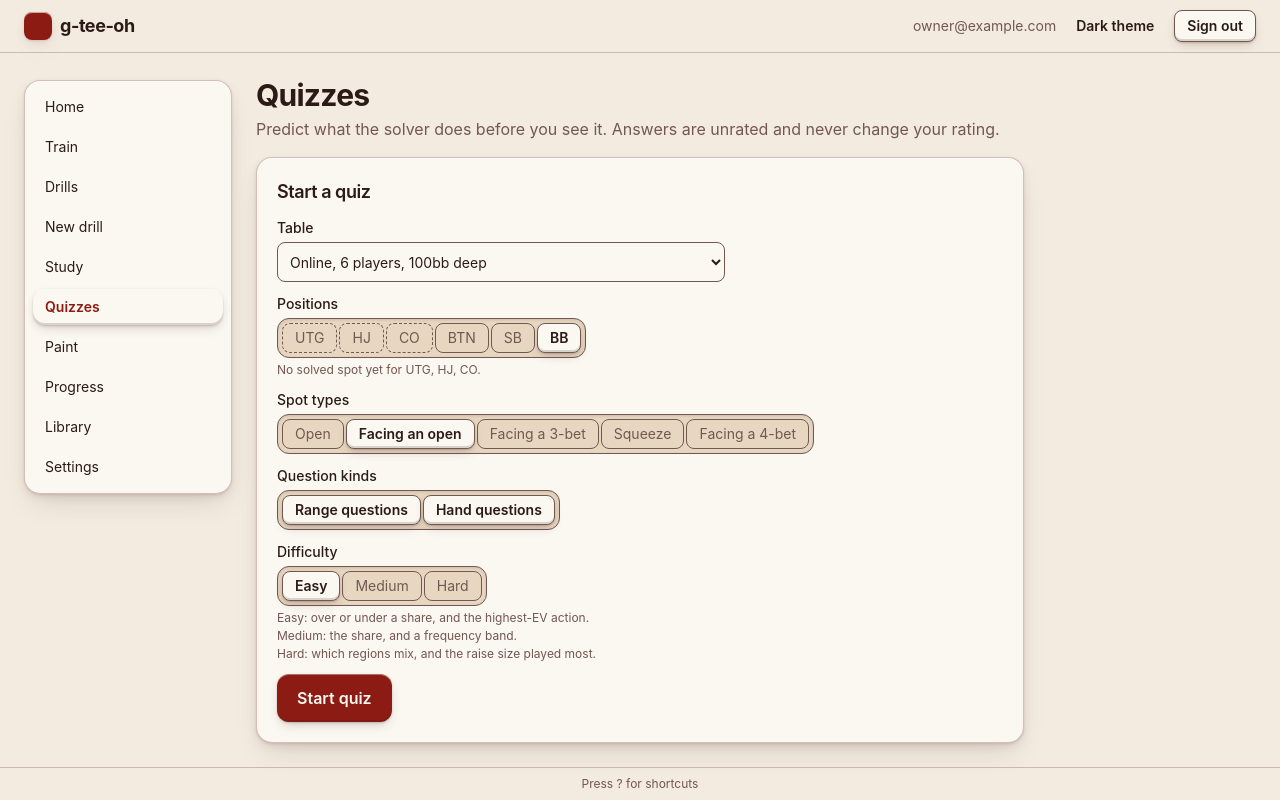
R3.16 the quiz's Enter submits from the chosen option or the page only (PR #45 round 4 b, PR #49 round 1) › R3.16 Enter right after choosing an option, with the focus on that option, still submits
The image size is (1280, 800).
Click the button "Start quiz": x=334, y=698 [277,674,392,722]
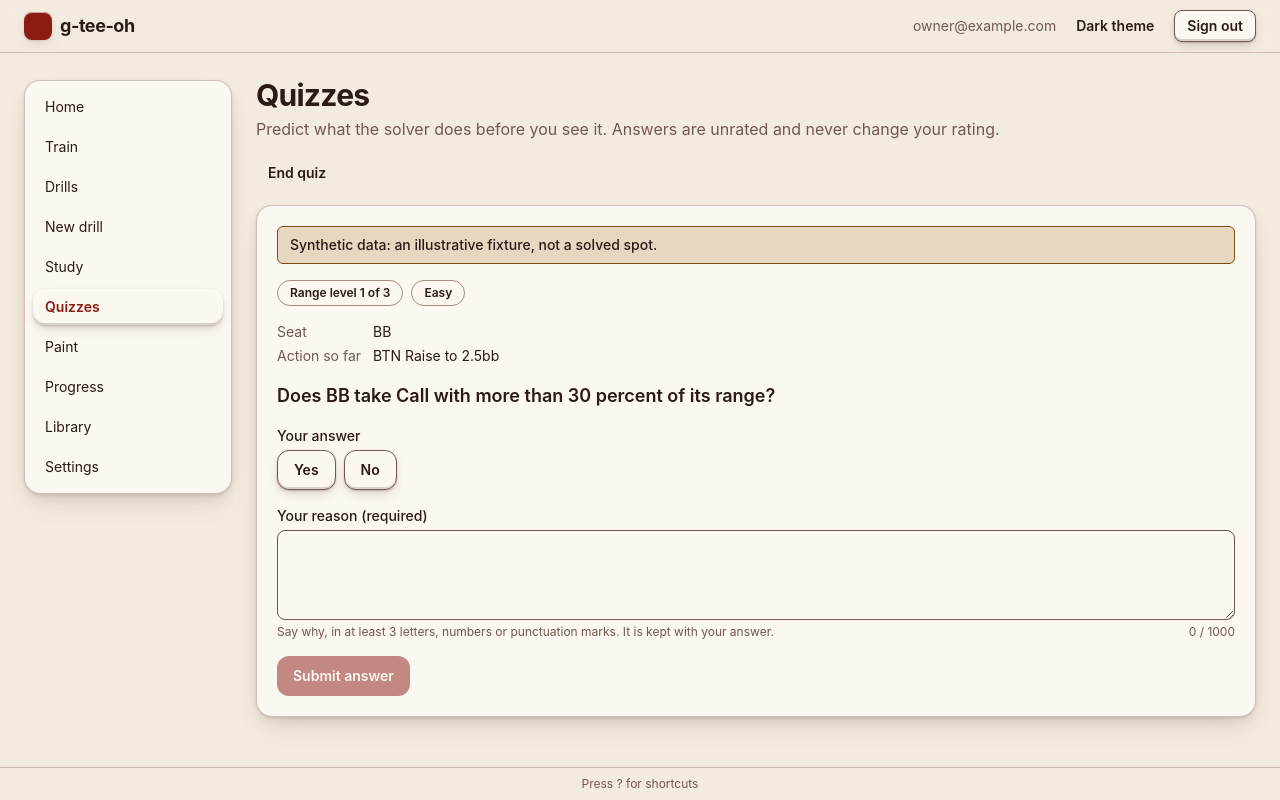
expect the heading "Does BB take Call with more than 30 percent of its range?" is shown: met, box [277,385,775,406]
In the text box labelled "Your reason (required)": x=756, y=575 [277,530,1235,620], type "Facing a small open, the price is good."
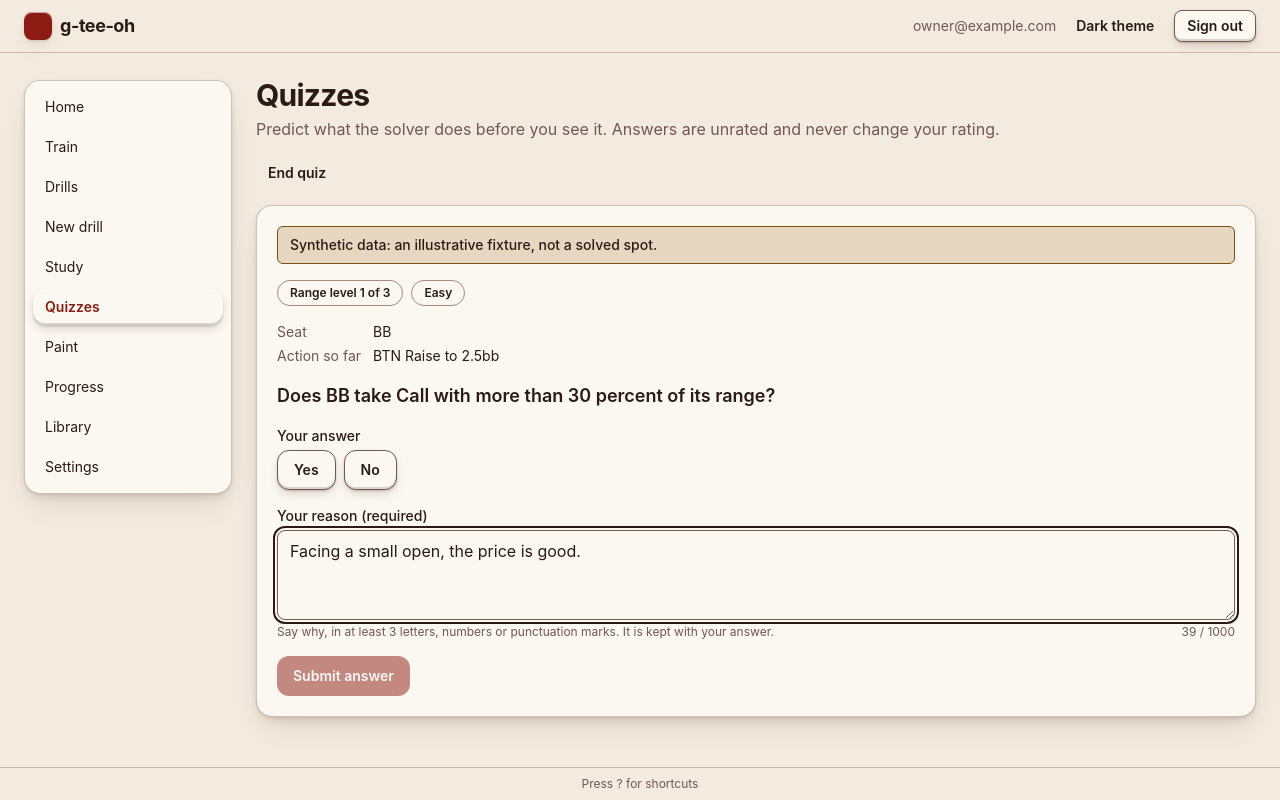
Click the button "No": x=370, y=470 [344,450,397,490]
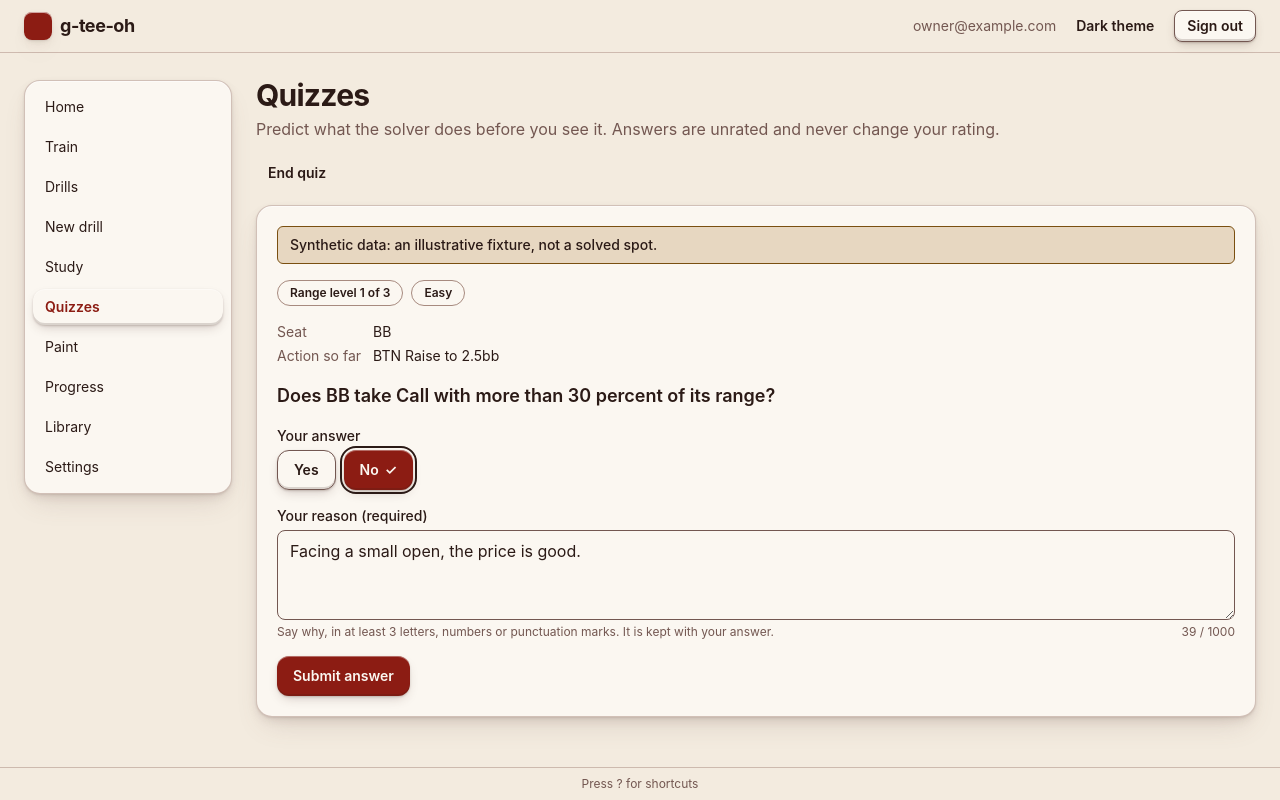
expect the button "No ✓" is pressed: met, box [344,450,413,490]
Press Enter
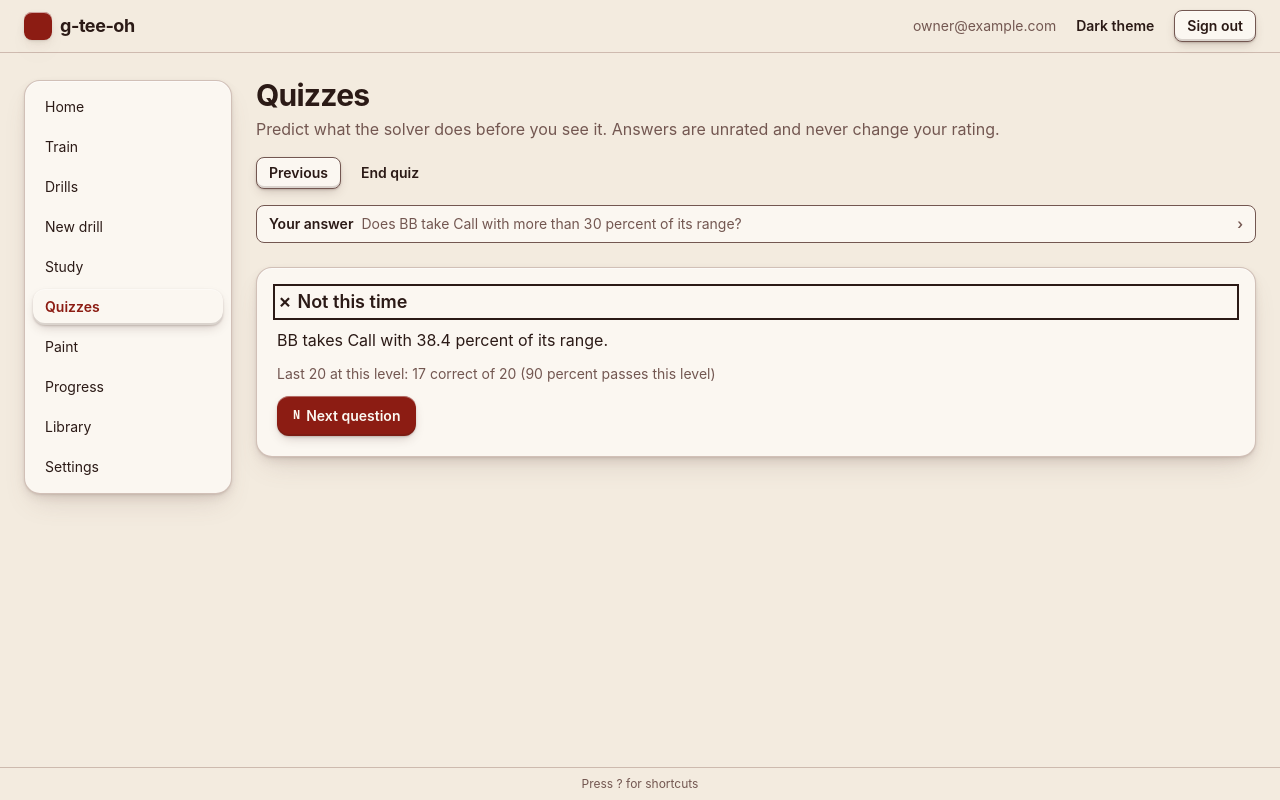
expect the element with test id "prediction-result" is shown: met, box [256,267,1256,457]
